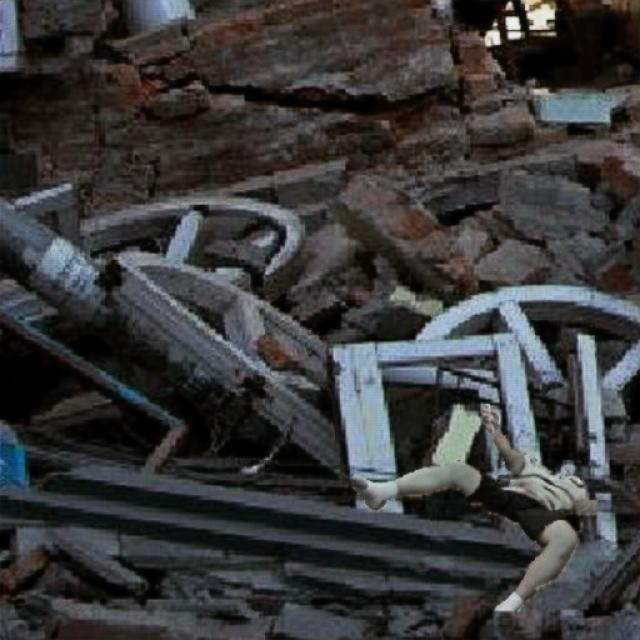Person in Rubble: (350, 404, 596, 610)
